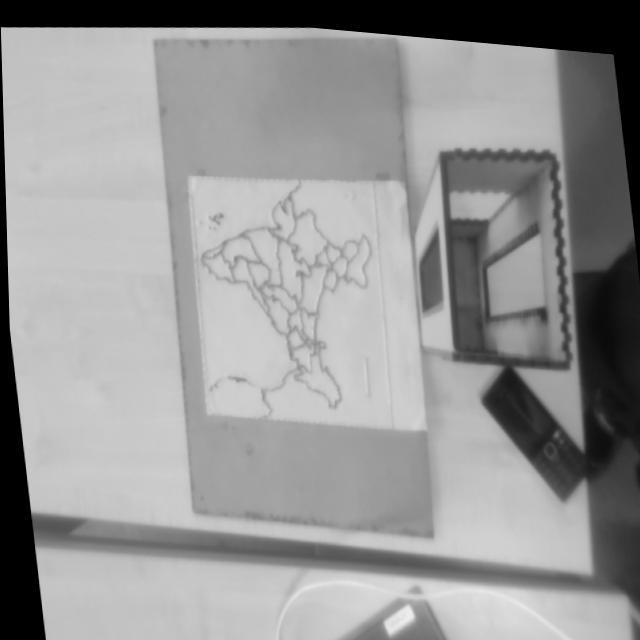map: (188, 163, 392, 444)
